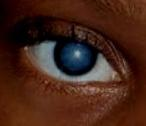eye: (53, 38, 98, 77)
